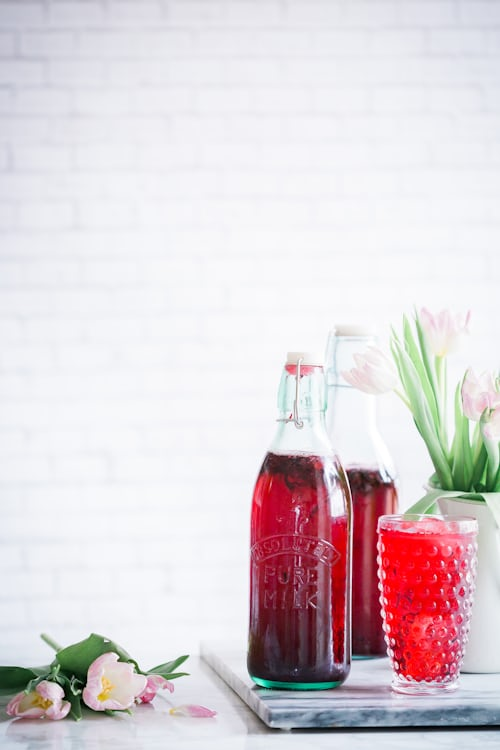Bottle: (240, 345, 360, 696), (313, 321, 400, 673)
Glass: (368, 504, 475, 691)
